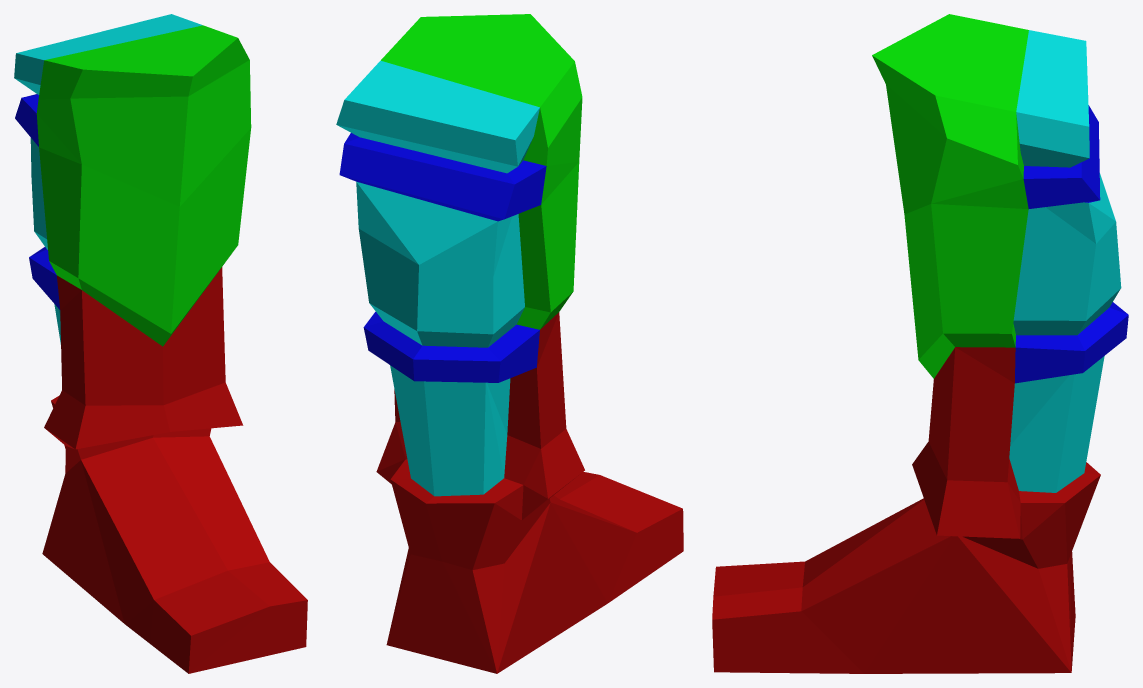
The model's file is Chr_LegLeft_Male_Static_01.fbx.
3 views of the same model, side by side, from view 1: azimuth 30°, elevation 25°; view 2: azimuth 150°, elevation 25°; view 3: azimuth 270°, elevation 25° (orthographic). The views are drawn at different scales.
Parts seen in each view (by area): view 1: Chr_LegLeft_Male_01; view 2: Chr_LegLeft_Male_01; view 3: Chr_LegLeft_Male_01.
Part boxes in pixels (left/top/right/bottom): Chr_LegLeft_Male_01: left=14, top=14, right=307, bottom=673; Chr_LegLeft_Male_01: left=336, top=14, right=683, bottom=673; Chr_LegLeft_Male_01: left=712, top=14, right=1128, bottom=673.
Size of the model in its own units: 14.06 by 40.45 by 25.73.
